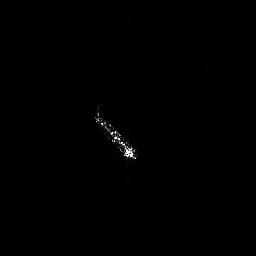ship: (91, 105, 139, 162)
